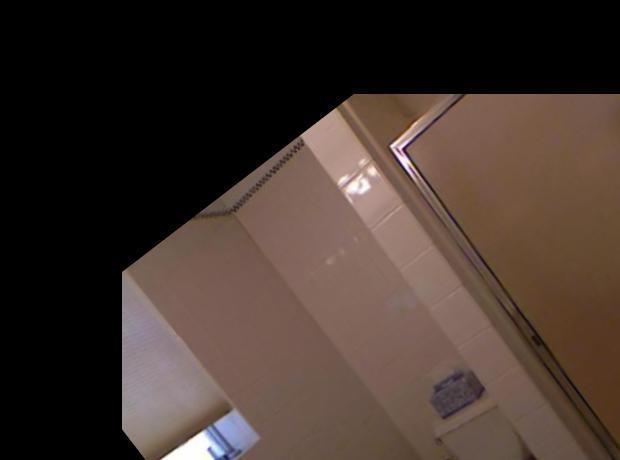Bote de Basura: (355, 0, 620, 460)
Ducha: (385, 363, 584, 460)
